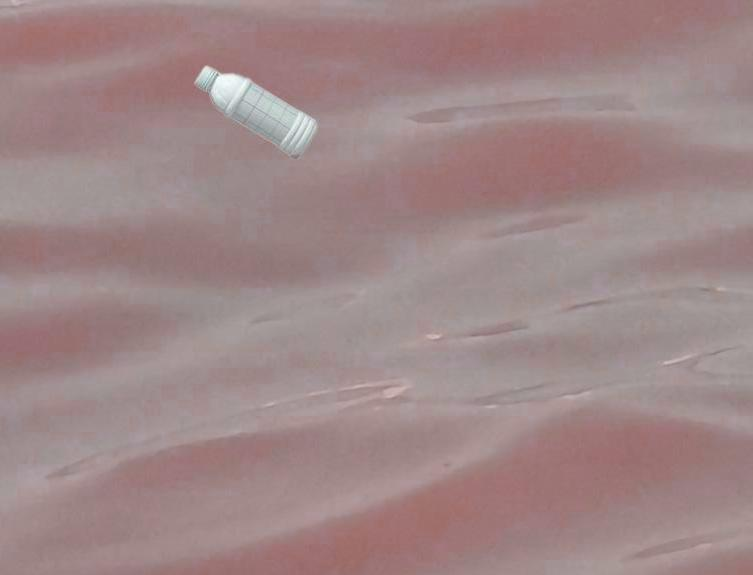Plastic: (189, 63, 319, 159)
